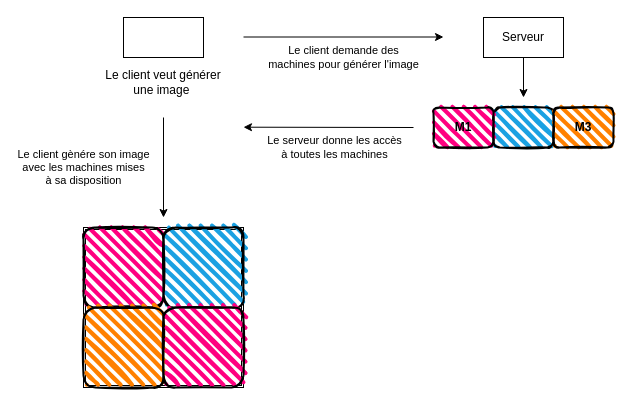
Some shapes in this 631 by 406 pixel diagram are drawn without their labels. The shapes that lost their labels are listed below. From the top down, each one's box as (x1, y1, x2, y2) in pixels, then its label:
(122, 16, 204, 58): Client
(492, 106, 554, 148): M2
